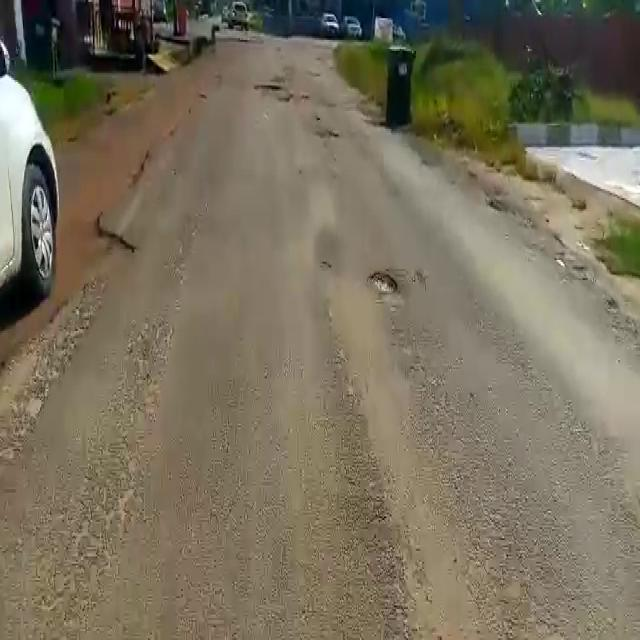Pothole: (365, 268, 406, 302)
